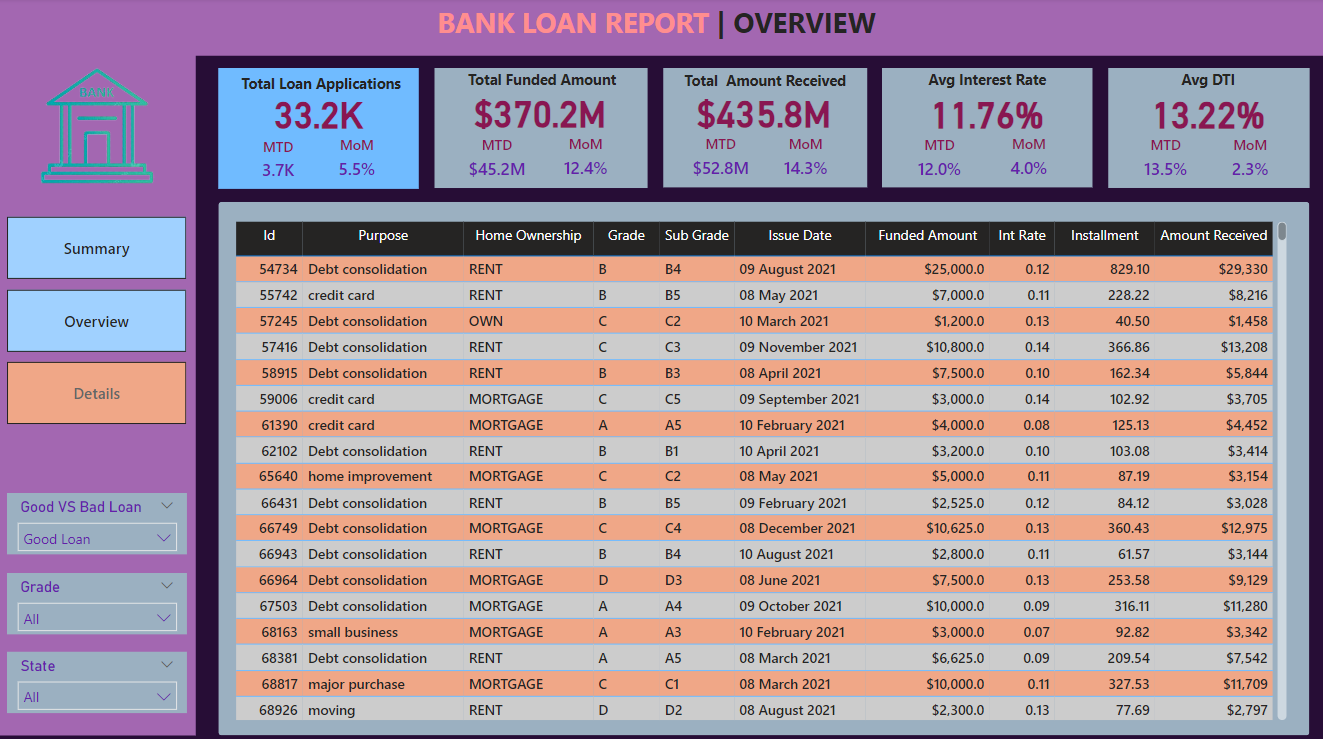

Layout of this report page (visuals, bound fields, positions):
{"tool":"powerbi","page":{"name":"Page 1","canvas":[1280,720],"ordinal":0},"visuals":[{"type":"shape","box":[0,0,1280,55.7],"z":0},{"type":"textbox","box":[420,0,441.4,55.7],"z":2000},{"type":"shape","box":[214.1,67.2,193.5,116.6],"z":3000},{"type":"shape","box":[422.1,67.2,205.8,115.8],"z":4000},{"type":"card","fields":{"Values":["bank_loan_data.Total Loan Application"]},"box":[213.5,88,194.2,44.6],"z":5000},{"type":"shape","box":[642.5,67.2,196.9,115.2],"z":6000},{"type":"textbox","box":[215.4,67.2,193.5,28.8],"z":7000},{"type":"shape","box":[854,67.2,203.1,115.3],"z":8000},{"type":"card","title":"MTD","fields":{"Values":["bank_loan_data.MTD Loan Application"]},"box":[230.4,133.9,82,50.7],"z":9000},{"type":"shape","box":[1071.7,67.2,194.3,115.8],"z":10000},{"type":"card","title":"MoM","fields":{"Values":["bank_loan_data.MOM Loan Application"]},"box":[312.4,132.7,69.9,50.7],"z":11000},{"type":"card","fields":{"Values":["bank_loan_data.Total Funded Amount"]},"box":[422.1,88,203.8,43.4],"z":12000},{"type":"card","title":"MTD","fields":{"Values":["bank_loan_data.MTD funded Amount"]},"box":[439,132.7,86.8,50.7],"z":13000},{"type":"textbox","box":[424.5,63.9,202.6,28.9],"z":14000},{"type":"card","fields":{"Values":["bank_loan_data.Total Amount Received"]},"box":[642.8,88,194.2,43.4],"z":15000},{"type":"card","title":"MoM","fields":{"Values":["bank_loan_data.MOM funded Amount"]},"box":[525.8,131.5,84.4,51.9],"z":16000},{"type":"card","fields":{"Values":["bank_loan_data.Avg interest Rate"]},"box":[853.9,88,202.6,44.6],"z":17000},{"type":"card","fields":{"Values":["bank_loan_data.Avg DTI"]},"box":[1072.2,88,193,44.6],"z":18000},{"type":"card","title":"MTD","fields":{"Values":["bank_loan_data.MTD Amount Received"]},"box":[656.1,131.5,84.4,51.9],"z":19000},{"type":"card","title":"MTD","fields":{"Values":["bank_loan_data.MTD Avg interest rate"]},"box":[863.5,132.7,91.7,50.7],"z":20000},{"type":"card","title":"MTD","fields":{"Values":["bank_loan_data.MTD Avg DTI"]},"box":[1086.6,132.7,82,50.7],"z":21000},{"type":"textbox","box":[642.8,65.1,196.6,31.4],"z":22000},{"type":"textbox","box":[854.2,63.9,203.1,34.3],"z":23000},{"type":"textbox","box":[1072.2,63.9,193,28.9],"z":24000},{"type":"card","title":"MoM","fields":{"Values":["bank_loan_data.MOM Amount Received"]},"box":[740.5,131.5,79.6,51.9],"z":25000},{"type":"card","title":"MoM","fields":{"Values":["bank_loan_data.MOM avg interest rate"]},"box":[955.2,131.5,80.8,51.9],"z":26000},{"type":"card","title":"MoM","fields":{"Values":["bank_loan_data.MOM Avg DTI"]},"box":[1168.6,132.7,80.8,50.7],"z":27000},{"type":"shape","box":[213.5,200.2,522.2,260.5],"z":28000},{"type":"shape","box":[744.1,200.2,522.2,260.5],"z":29000},{"type":"donutChart","fields":{"Category":["bank_loan_data.Good vs Bad loan"],"Y":["bank_loan_data.Total Loan Application"]},"box":[225.5,230.4,249.6,230.4],"z":30000},{"type":"card","fields":{"Values":["bank_loan_data.% Good Applications"]},"box":[283.4,323.2,135.1,44.6],"z":31000},{"type":"donutChart","fields":{"Category":["bank_loan_data.Good vs Bad loan"],"Y":["bank_loan_data.Total Loan Application"]},"box":[756.2,230.4,249.6,230.4],"z":32000},{"type":"card","fields":{"Values":["bank_loan_data.% Bad Applications"]},"box":[814.1,323.2,135.1,44.6],"z":33000},{"type":"cardVisual","title":"Bad","fields":{"Data":["bank_loan_data.Bad Loan Application","bank_loan_data.Bad Loan Funded Amount","bank_loan_data.Bad Loan Received Amount"]},"box":[1005.8,206.2,255.7,248.4],"z":34000},{"type":"textbox","box":[261.7,212.3,178.5,28.9],"z":35000},{"type":"shape","box":[0,47,191.8,664.5],"z":35500},{"type":"textbox","box":[782.7,212.3,197.8,27.7],"z":36000},{"type":"cardVisual","title":"Bad","fields":{"Data":["bank_loan_data.Good Loan Application","bank_loan_data.Good Loan Funded Amount","bank_loan_data.Good Loan Received Amount"]},"box":[475.2,206.2,255.7,248.4],"z":37000},{"type":"shape","title":"LOAN STATU","box":[213.5,481.2,1052.9,230.4],"z":38000},{"type":"tableEx","fields":{"Values":["bank_loan_data.loan_status","bank_loan_data.Total Loan Application","bank_loan_data.Total Funded Amount","bank_loan_data.Total Amount Received","bank_loan_data.MTD funded Amount","bank_loan_data.MTD Amount Received","bank_loan_data.Avg interest Rate","bank_loan_data.Avg DTI"]},"box":[225.5,519.8,1036,182.1],"z":39000},{"type":"textbox","box":[230.4,486,130.3,33.8],"z":40000},{"type":"slicer","fields":{"Values":["bank_loan_data.grade"]},"box":[9.6,502.9,173.7,59.1],"z":45000},{"type":"slicer","fields":{"Values":["bank_loan_data.address_state"]},"box":[9.6,588.5,173.7,59.1],"z":45500},{"type":"slicer","fields":{"Values":["bank_loan_data.purpose"]},"box":[9.6,422.1,173.7,59.1],"z":46000}]}

Visuals, with their boxes in screenshot pixels (x1, y1, x2, y2), scaled from the page's 1280x720 canvas onto the 1323x739 screenshot:
shape: BBox(0, 0, 1322, 57)
textbox: BBox(434, 0, 890, 57)
shape: BBox(221, 69, 421, 189)
shape: BBox(436, 69, 649, 188)
card - bank_loan_data.Total Loan Application: BBox(221, 90, 421, 136)
shape: BBox(664, 69, 868, 187)
textbox: BBox(223, 69, 423, 99)
shape: BBox(883, 69, 1093, 187)
"MTD" card: BBox(238, 137, 323, 189)
shape: BBox(1108, 69, 1309, 188)
"MoM" card: BBox(323, 136, 395, 188)
card - bank_loan_data.Total Funded Amount: BBox(436, 90, 647, 135)
"MTD" card: BBox(454, 136, 543, 188)
textbox: BBox(439, 66, 648, 95)
card - bank_loan_data.Total Amount Received: BBox(664, 90, 865, 135)
"MoM" card: BBox(543, 135, 631, 188)
card - bank_loan_data.Avg interest Rate: BBox(883, 90, 1092, 136)
card - bank_loan_data.Avg DTI: BBox(1108, 90, 1308, 136)
"MTD" card: BBox(678, 135, 765, 188)
"MTD" card: BBox(893, 136, 987, 188)
"MTD" card: BBox(1123, 136, 1208, 188)
textbox: BBox(664, 67, 868, 99)
textbox: BBox(883, 66, 1093, 101)
textbox: BBox(1108, 66, 1308, 95)
"MoM" card: BBox(765, 135, 848, 188)
"MoM" card: BBox(987, 135, 1071, 188)
"MoM" card: BBox(1208, 136, 1291, 188)
shape: BBox(221, 205, 760, 473)
shape: BBox(769, 205, 1309, 473)
donutChart - bank_loan_data.Good vs Bad loan x bank_loan_data.Total Loan Application: BBox(233, 236, 491, 473)
card - bank_loan_data.% Good Applications: BBox(293, 332, 433, 378)
donutChart - bank_loan_data.Good vs Bad loan x bank_loan_data.Total Loan Application: BBox(782, 236, 1040, 473)
card - bank_loan_data.% Bad Applications: BBox(841, 332, 981, 378)
"Bad" cardVisual: BBox(1040, 212, 1304, 467)
textbox: BBox(270, 218, 455, 248)
shape: BBox(0, 48, 198, 730)
textbox: BBox(809, 218, 1013, 246)
"Bad" cardVisual: BBox(491, 212, 755, 467)
"LOAN STATU" shape: BBox(221, 494, 1309, 730)
tableEx - bank_loan_data.loan_status x bank_loan_data.Total Loan Application: BBox(233, 534, 1304, 720)
textbox: BBox(238, 499, 373, 534)
slicer - bank_loan_data.grade: BBox(10, 516, 189, 577)
slicer - bank_loan_data.address_state: BBox(10, 604, 189, 665)
slicer - bank_loan_data.purpose: BBox(10, 433, 189, 494)
